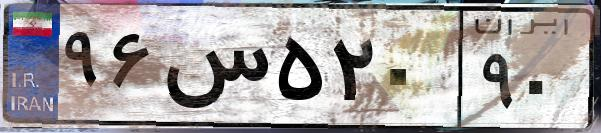0: (385, 28, 445, 110), (525, 38, 570, 115)
2: (330, 28, 385, 110)
5: (270, 28, 330, 110)
6: (110, 28, 158, 98)
9: (57, 26, 110, 100), (475, 38, 525, 113)
س: (158, 20, 270, 120)
